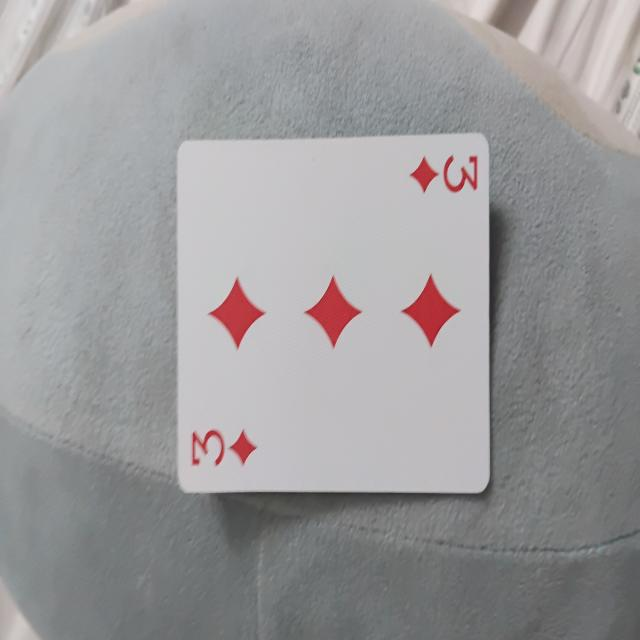3D: (177, 148, 487, 499)
